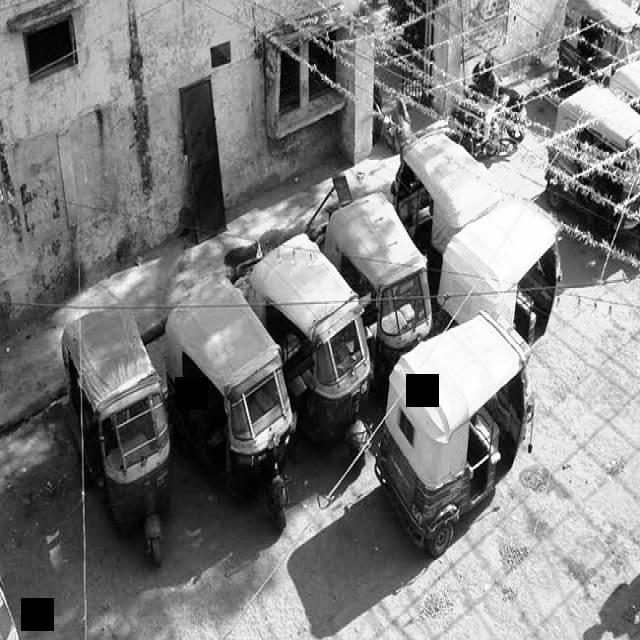Auto-Rickshaw: (364, 303, 557, 564), (227, 231, 391, 479), (40, 295, 176, 572), (160, 279, 304, 535), (439, 187, 581, 361), (318, 194, 452, 376), (547, 77, 639, 280), (385, 134, 501, 272)
